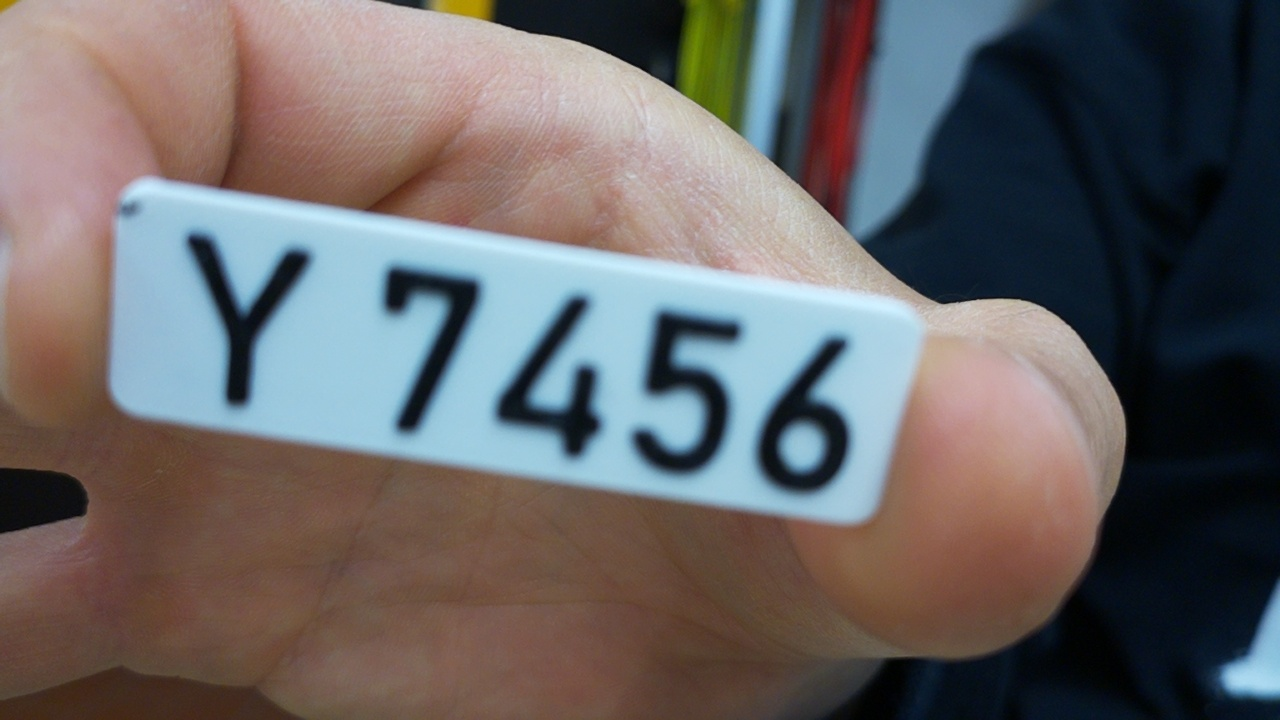license_plate: (105, 172, 929, 532)
